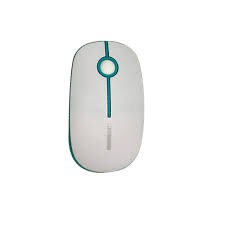mouse: (66, 38, 146, 173)
